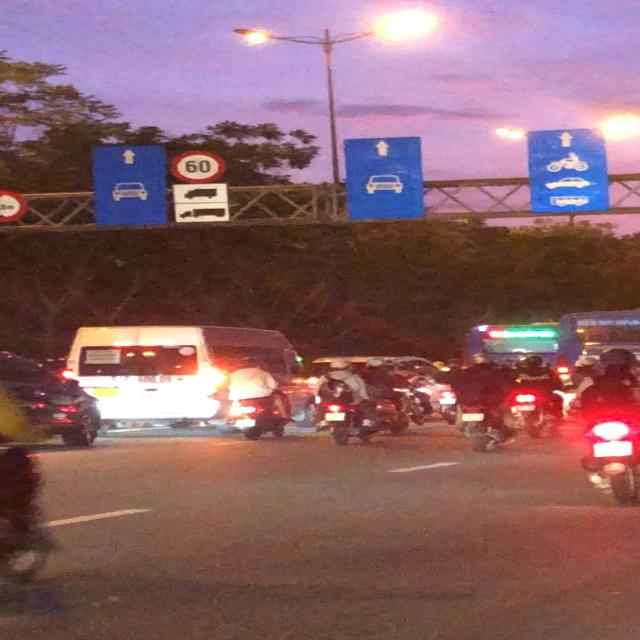Bien bao toc do toi da cho phep: (168, 145, 228, 185)
